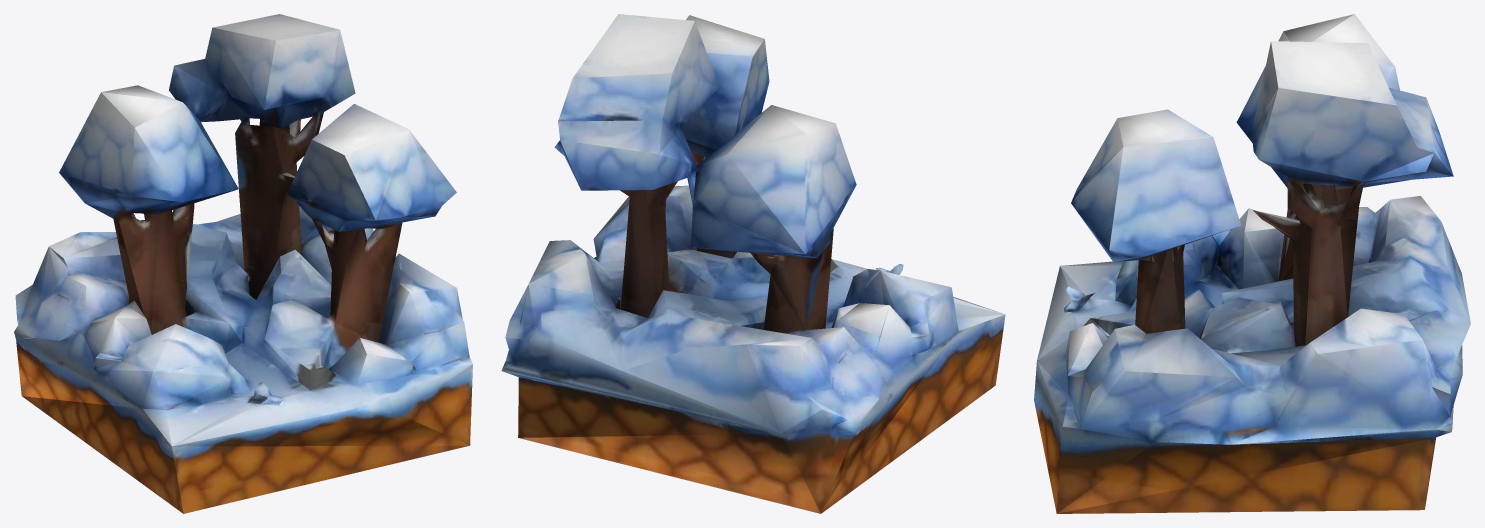
The model's file is veg_snowy_forest.glb.
3 views of the same model, side by side, from view 1: azimuth 30°, elevation 25°; view 2: azimuth 150°, elevation 25°; view 3: azimuth 270°, elevation 25° (orthographic). The views are drawn at different scales.
Parts seen in each view (by area): view 1: Snowy Forest; view 2: Snowy Forest; view 3: Snowy Forest.
Boxes of the visible parts, x1,y1,x2,y2 form: Snowy Forest: (14, 14, 472, 513); Snowy Forest: (501, 14, 1005, 513); Snowy Forest: (1034, 14, 1470, 513).
Bounding box in the file's own units: 1.72 × 1.8 × 1.71.
Materials: 1 (1 with a texture image).
